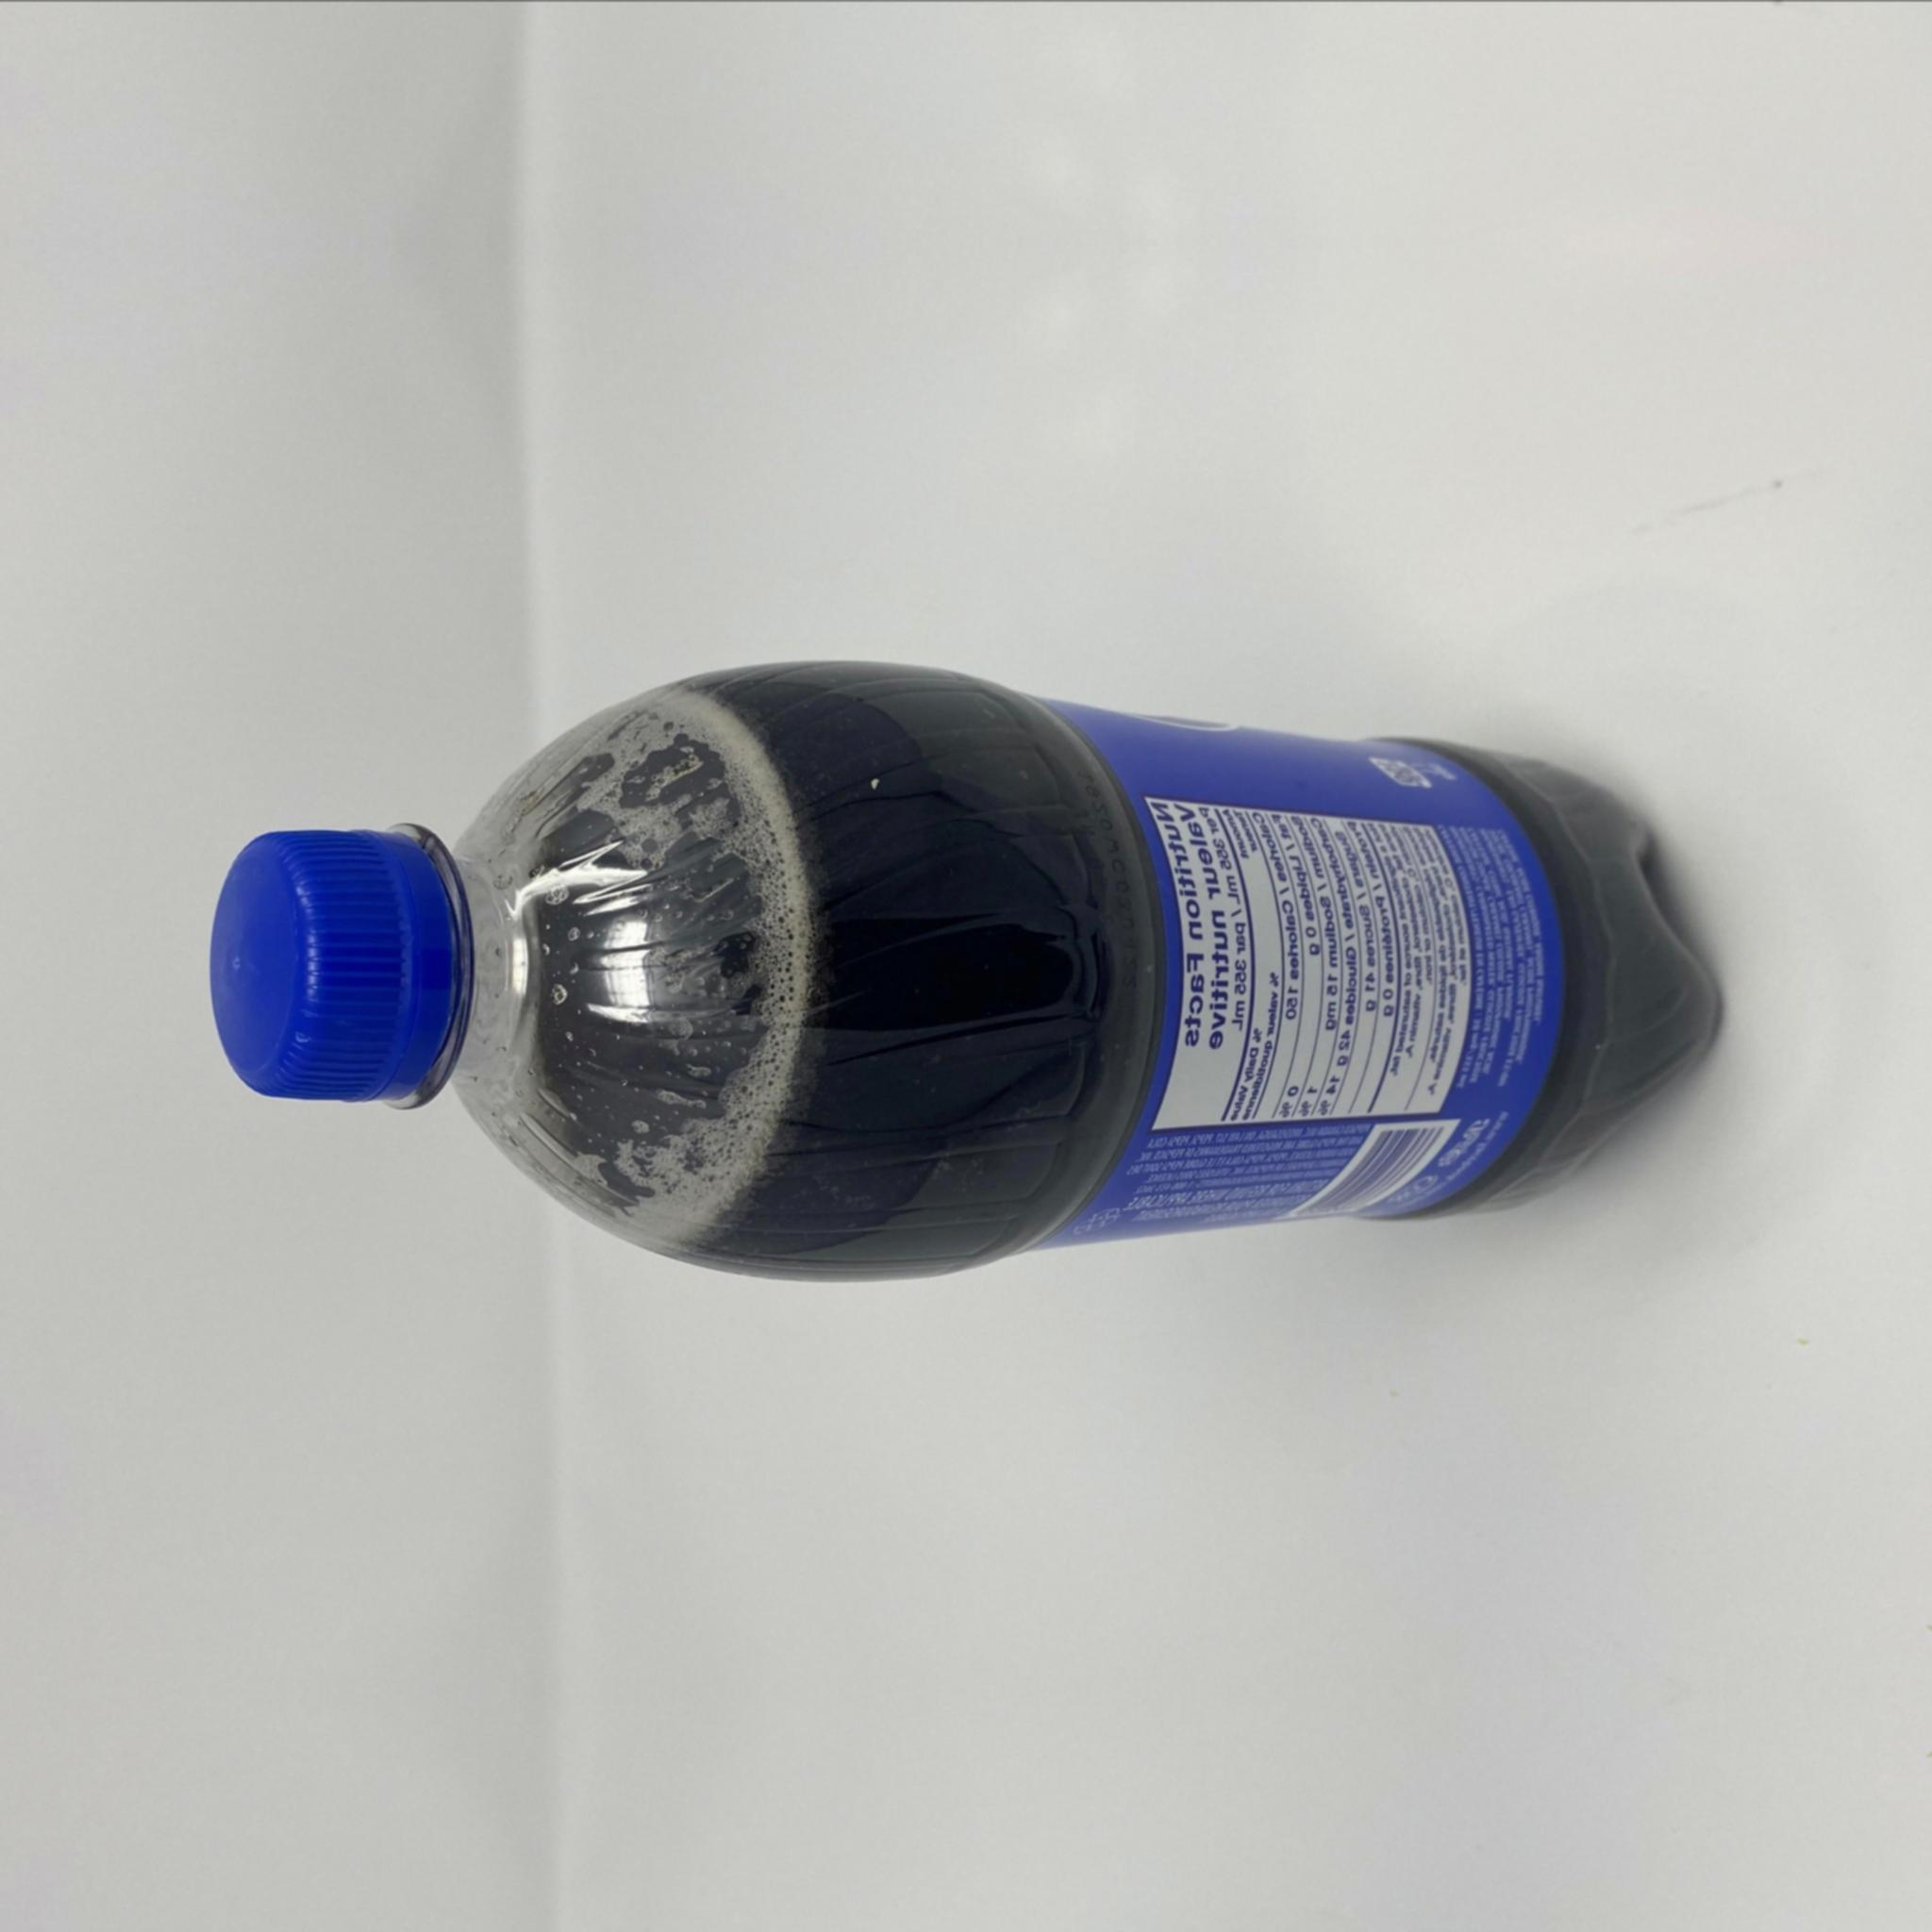PET: (207, 656, 1720, 1283)
pepsi: (207, 656, 1720, 1283)
plastic: (207, 656, 1720, 1283)
soft-drink: (207, 656, 1720, 1283)
